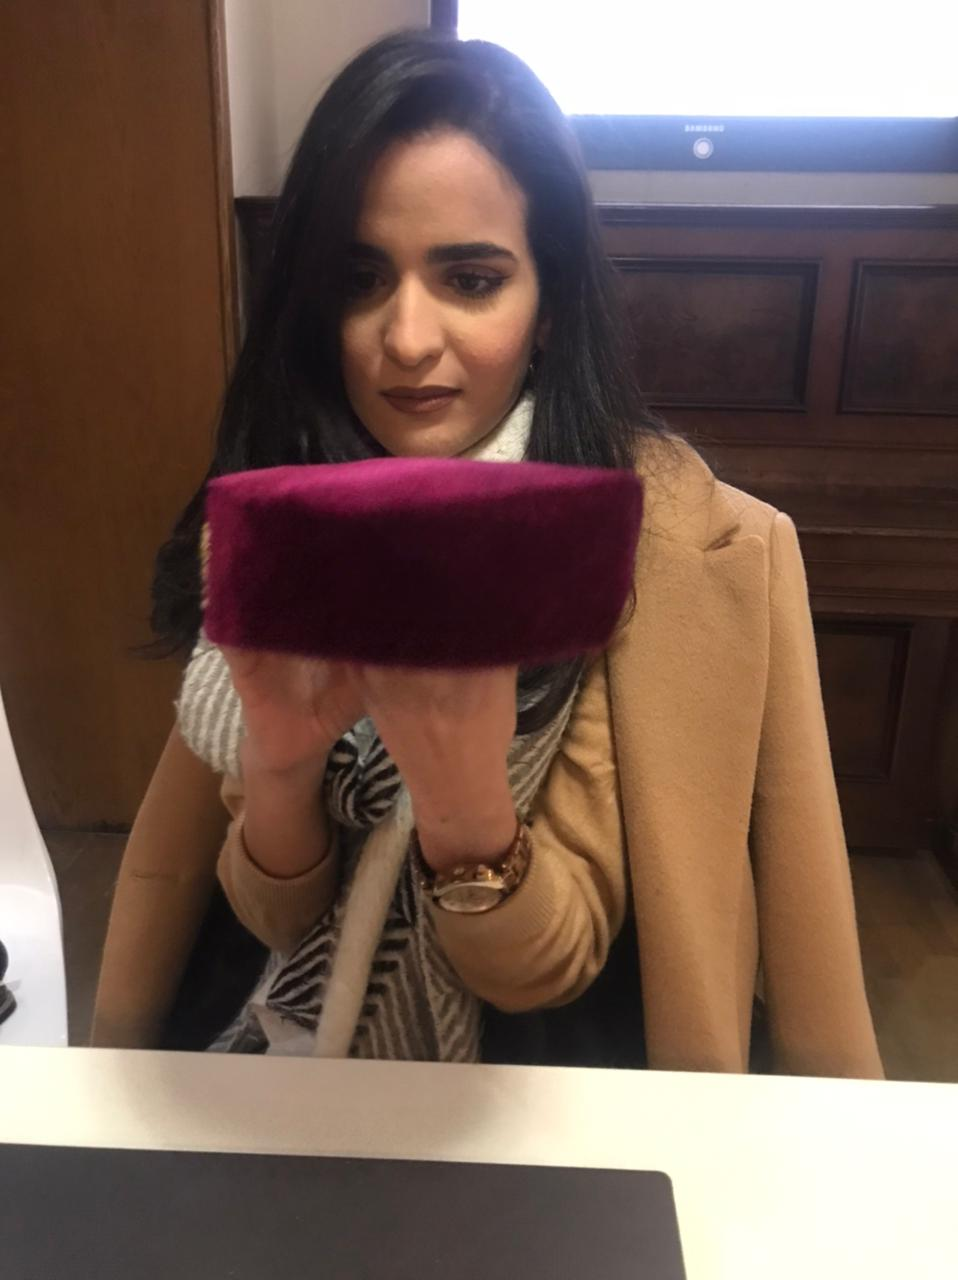chachia: (188, 453, 661, 690)
